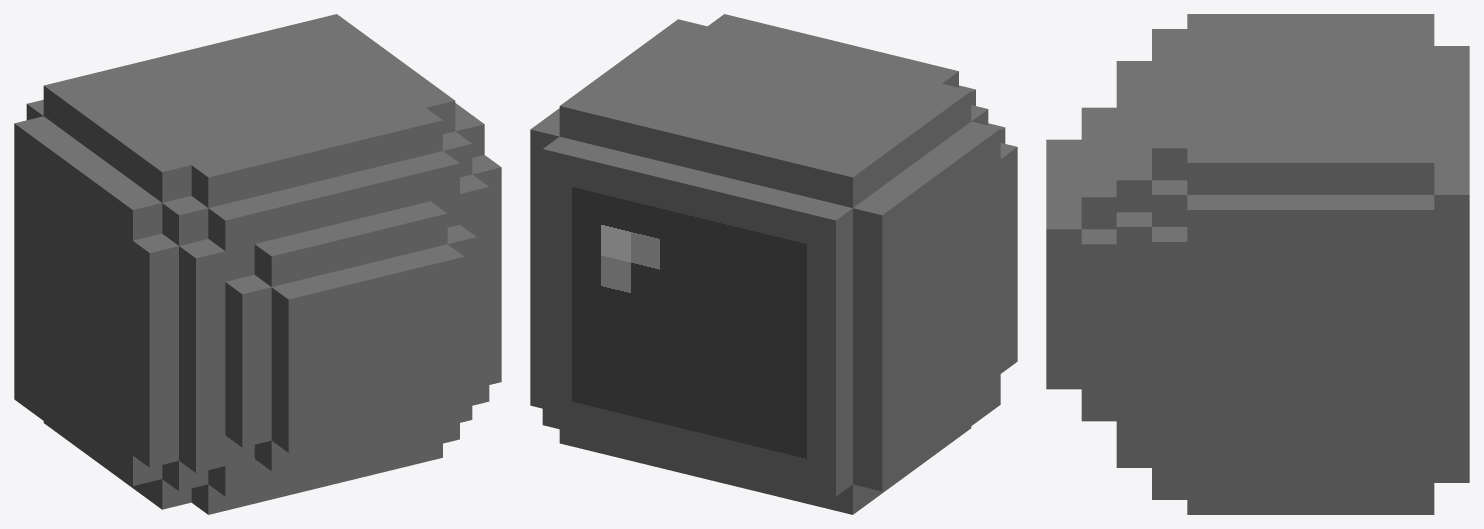
File: Televisão.obj
3 views of the same model, side by side, from view 1: azimuth 30°, elevation 25°; view 2: azimuth 150°, elevation 25°; view 3: azimuth 270°, elevation 25° (orthographic). The views are drawn at different scales.
Parts seen in each view (by area): view 1: Model; view 2: Model; view 3: Model.
Part boxes in pixels (bbox=[...]): Model: bbox=[14, 14, 501, 514]; Model: bbox=[530, 14, 1017, 514]; Model: bbox=[1046, 14, 1469, 514].
Bounding box in the file's own units: 32 × 29.33 × 32.
1 material, 1 textured.
